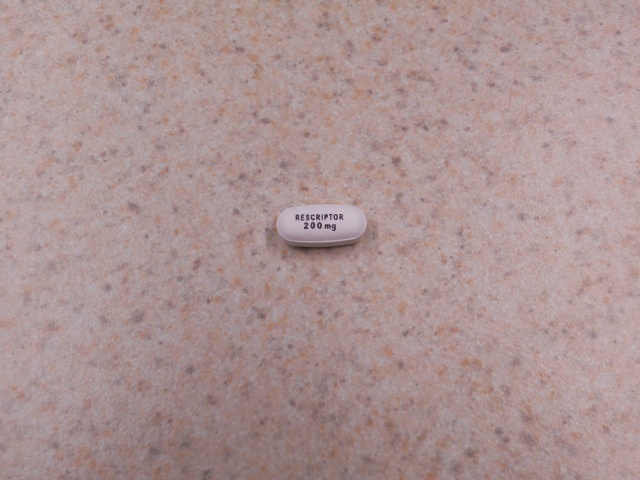0: (309, 222, 315, 230), (317, 222, 323, 229)
2: (303, 222, 309, 231)
C: (311, 213, 315, 222)
E: (300, 213, 305, 221)
I: (320, 212, 323, 221)
O: (334, 212, 339, 221)
P: (324, 212, 328, 222)
R: (293, 213, 300, 222), (338, 212, 345, 221), (315, 214, 321, 221)
S: (306, 213, 311, 221)
T: (329, 213, 333, 220)
g: (331, 223, 338, 233)
m: (324, 223, 331, 230)
